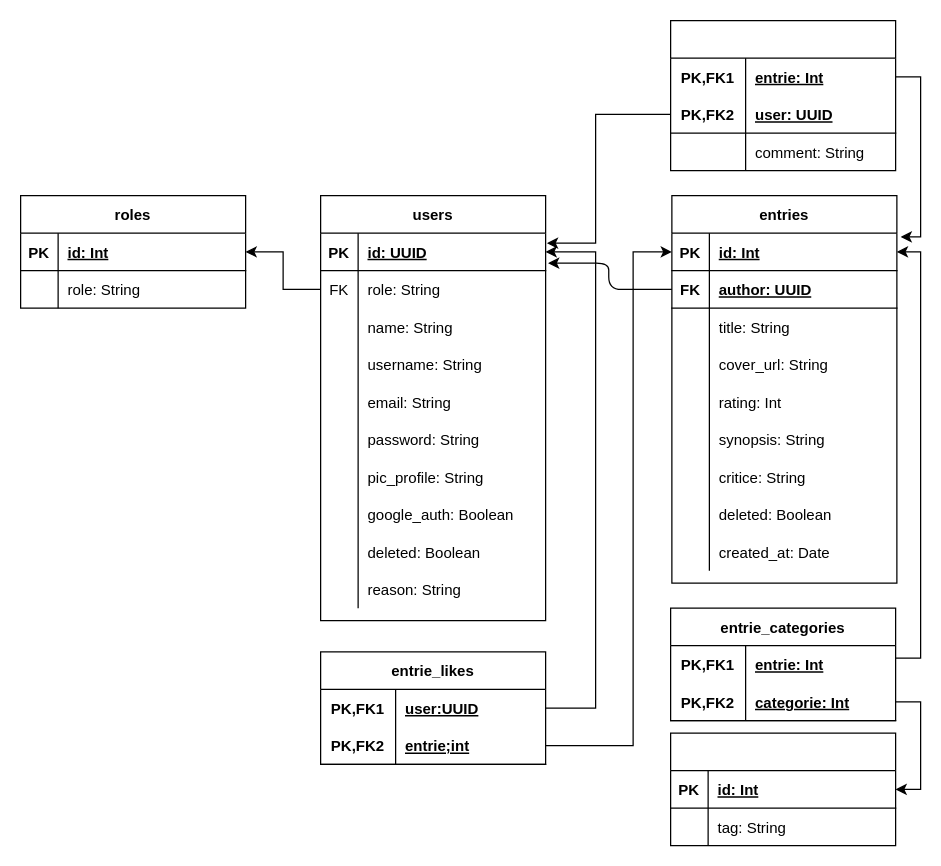
Some shapes in this 941 by 866 pixel diagram are drawn without their labels. Each missing label, with the box of its shape:
categories: (669, 732, 896, 846)
entrie_comments: (669, 19, 896, 171)
